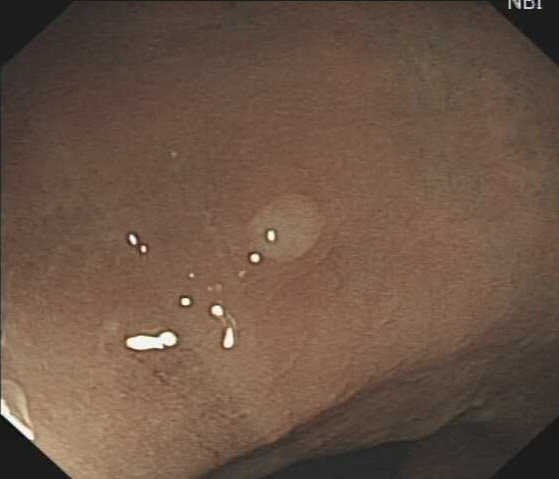others: (242, 192, 327, 264)
